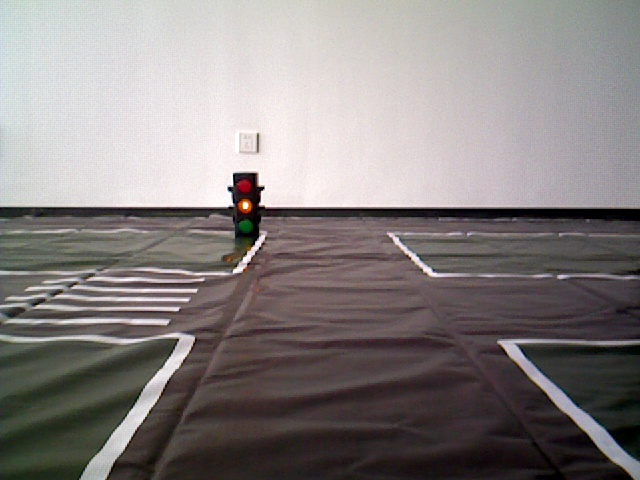yellow: (231, 171, 259, 234)
